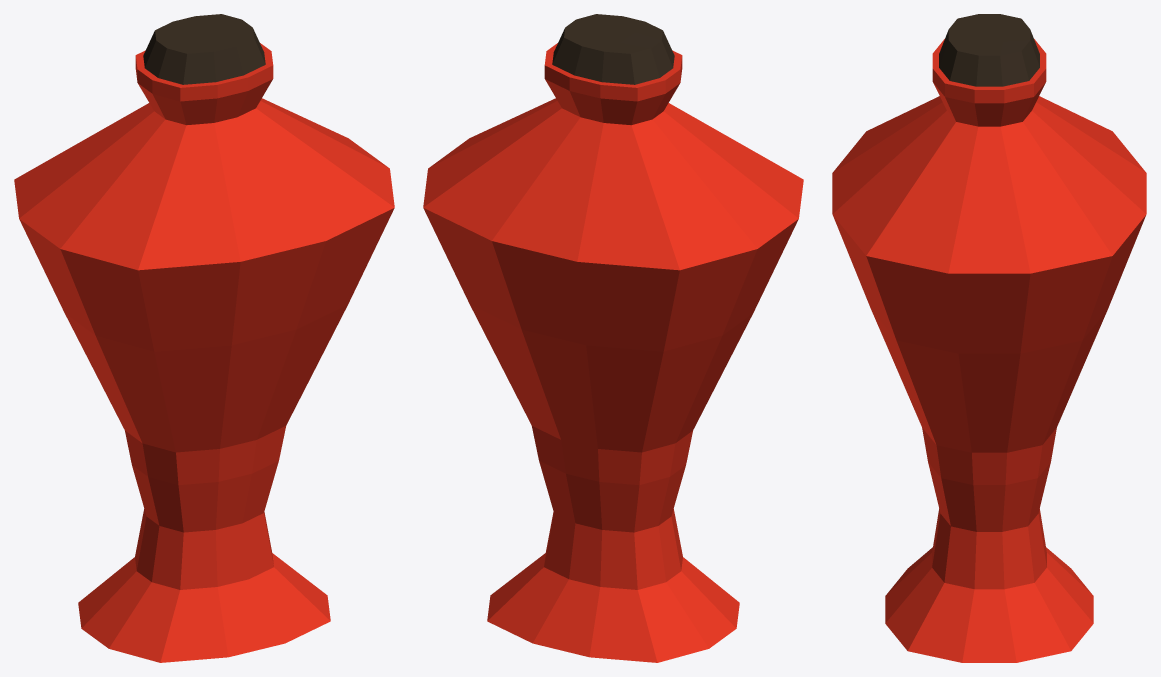
The model's file is HealthPotion.fbx.
The picture shows the model from 3 angles, left to right: view 1: azimuth 30°, elevation 25°; view 2: azimuth 150°, elevation 25°; view 3: azimuth 270°, elevation 25°; orthographic projection.
Parts seen in each view (by area): view 1: Potion.002; view 2: Potion.002; view 3: Potion.002.
Part boxes in pixels (box(x1,y1,x2,y2)): Potion.002: box(14, 14, 394, 662); Potion.002: box(423, 14, 803, 662); Potion.002: box(832, 14, 1146, 662).
Size of the model in its own units: 16.33 by 27.38 by 13.55.
1 material, 1 textured.
